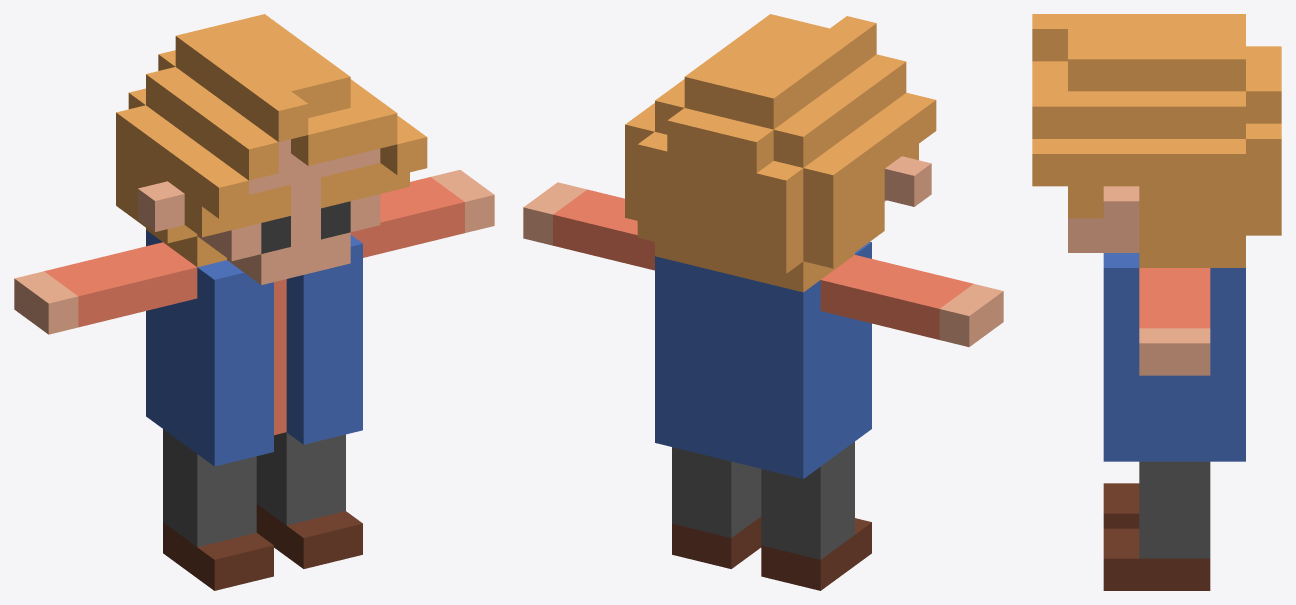
Rendered from persona2_t.vox.obj.
3 views of the same model, side by side, from view 1: azimuth 30°, elevation 25°; view 2: azimuth 150°, elevation 25°; view 3: azimuth 270°, elevation 25° (orthographic). The views are drawn at different scales.
Bounding box in the file's own units: 1.5 × 1.6 × 0.7.
Materials: 1 (1 with a texture image).
